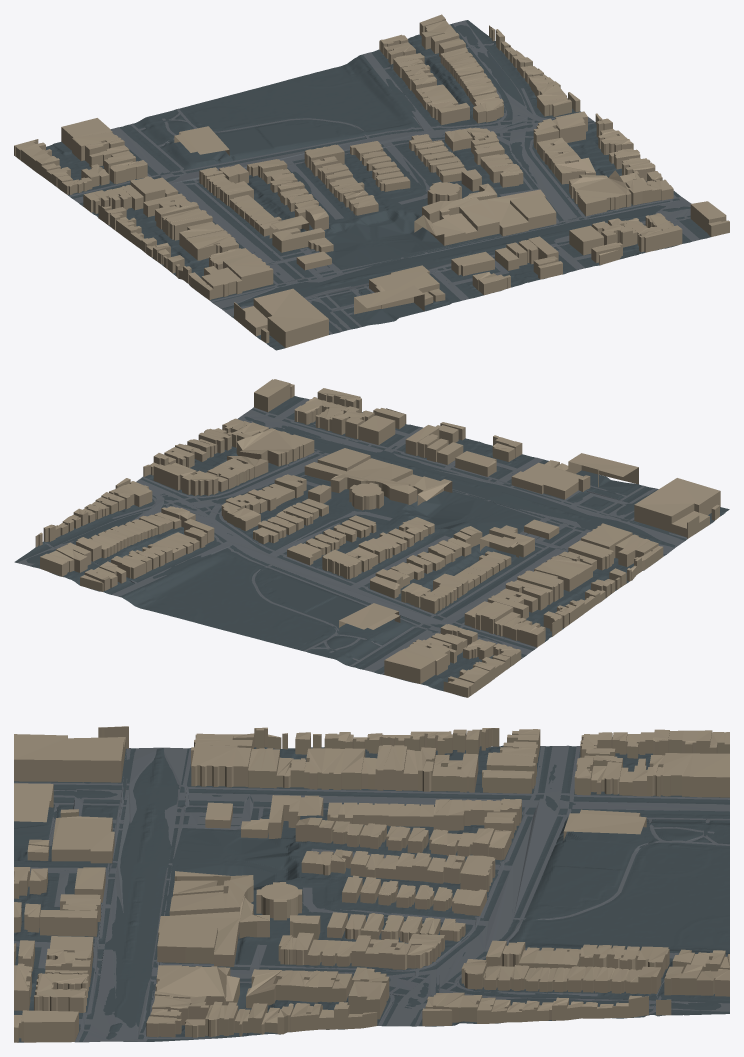
The model's file is epsg26910-1426-10889.lod0.glb.
3 renders of one model, top to bottom at view 1: azimuth 30°, elevation 25°; view 2: azimuth 150°, elevation 25°; view 3: azimuth 270°, elevation 25°, orthographic. The views are drawn at different scales.
Visible parts, largest first — view 1: epsg26910-1426-10889-lod0; view 2: epsg26910-1426-10889-lod0; view 3: epsg26910-1426-10889-lod0.
Boxes of the visible parts, x1,y1,x2,y2 form: epsg26910-1426-10889-lod0: (14,14,729,350); epsg26910-1426-10889-lod0: (14,379,729,697); epsg26910-1426-10889-lod0: (14,726,729,1042).
Bounding box in the file's own units: 384 × 33.69 × 384.
